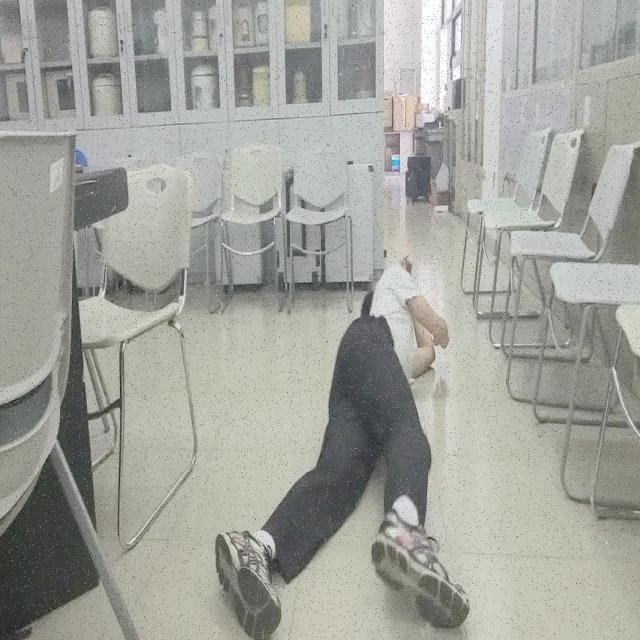fall: (216, 256, 472, 639)
